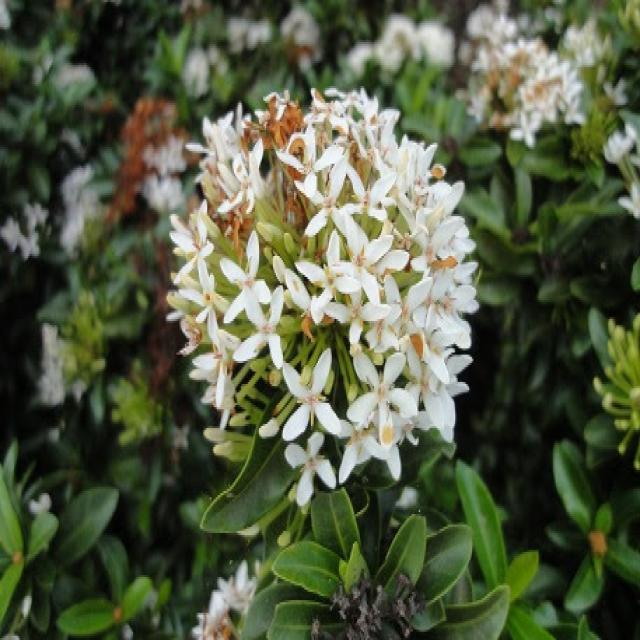Chinese-Ixora: (165, 84, 480, 508)
